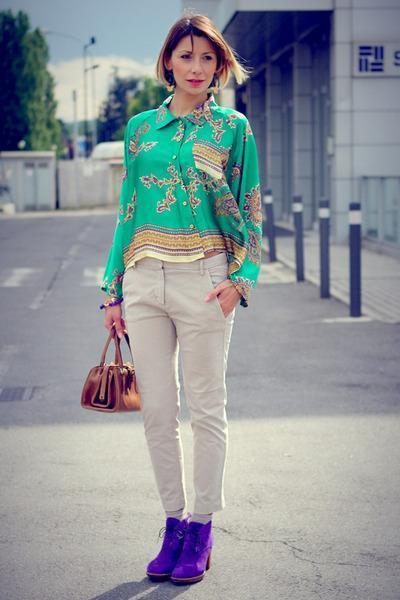bag: (81, 300, 141, 412)
pants: (121, 252, 239, 526)
shirt: (101, 94, 276, 300)
shoe: (147, 517, 211, 585)
